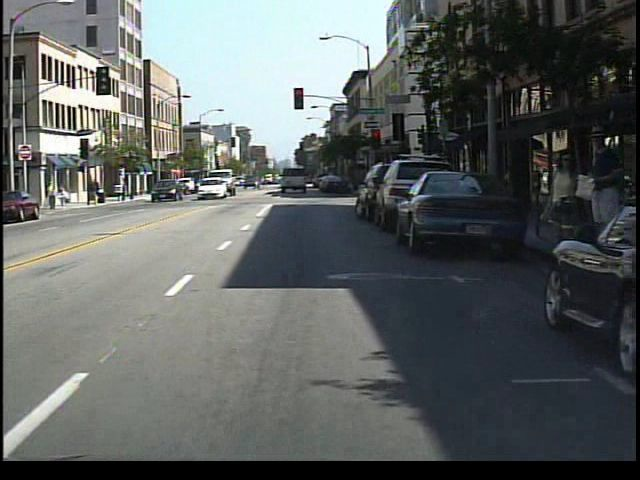person: (580, 120, 617, 281), (541, 144, 583, 285), (46, 180, 60, 213), (56, 184, 72, 211)
